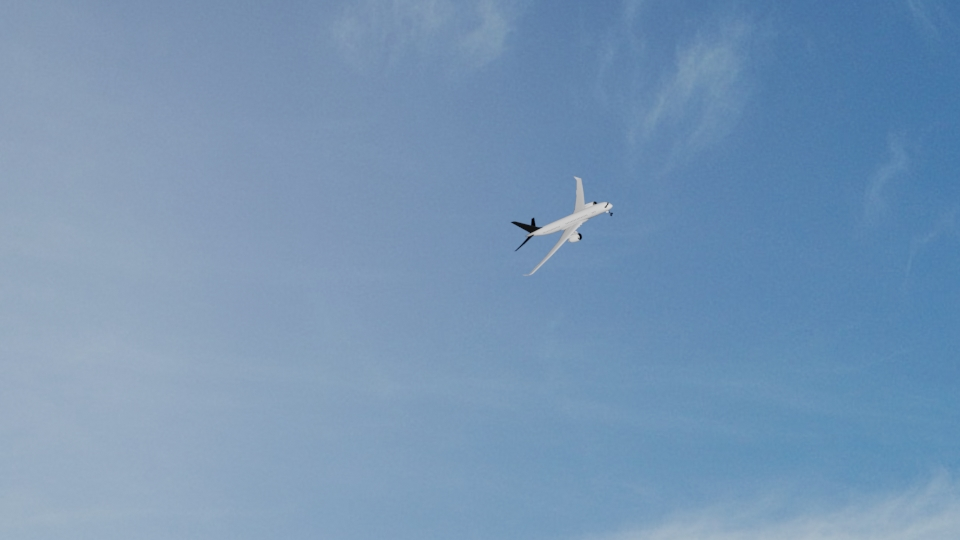plane: (509, 173, 615, 279)
